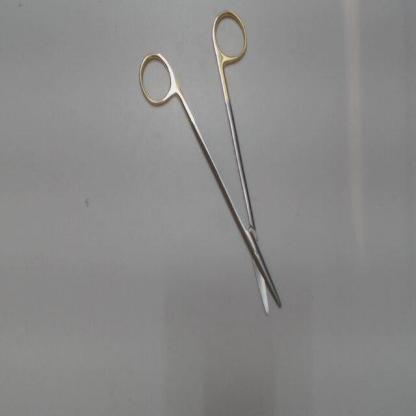7 Metzenbaum Scissors: (134, 4, 288, 319)
